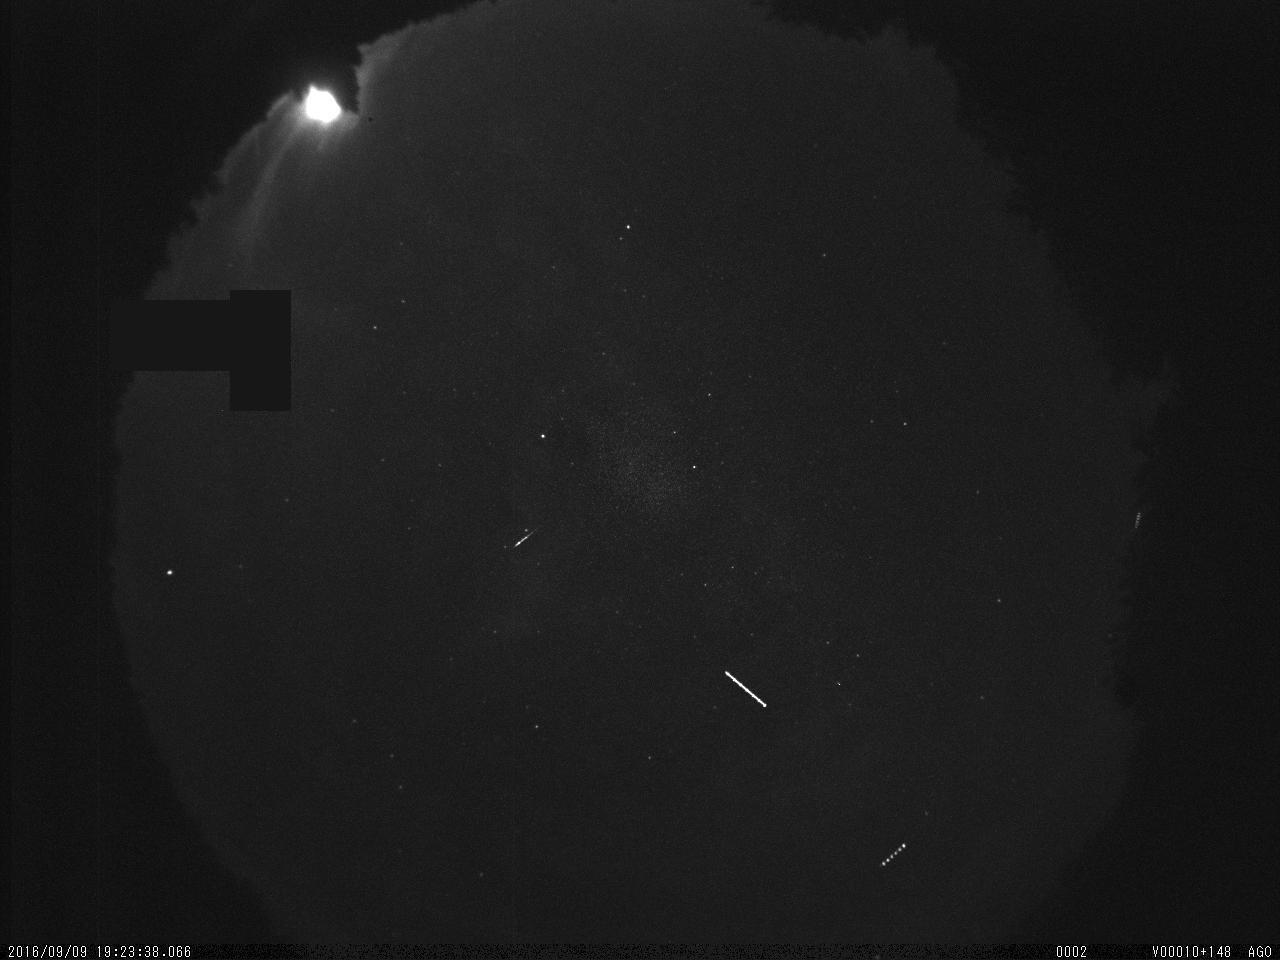Meteor: (507, 524, 546, 555)
